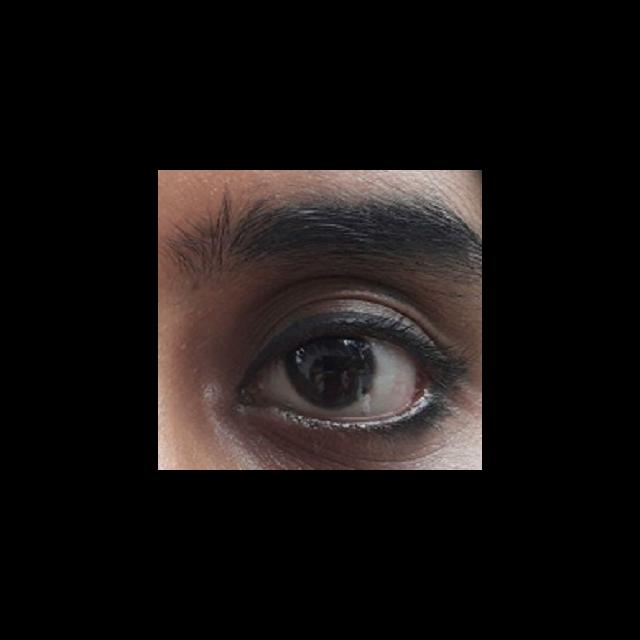eye: (262, 336, 416, 419)
iris: (284, 340, 374, 408)
